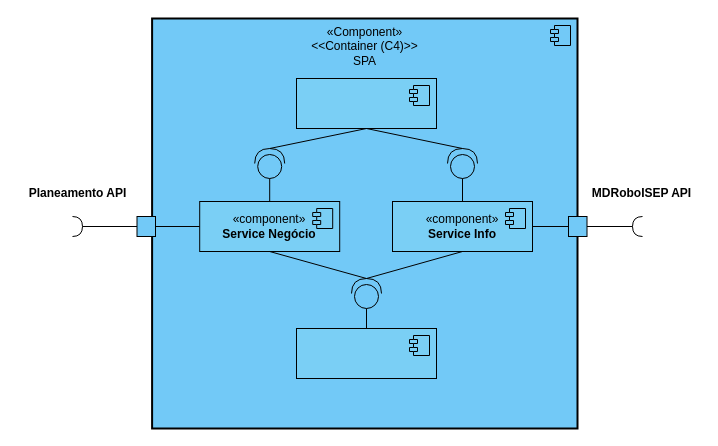
Some shapes in this 718 by 446 pixel diagram are drawn without their labels. Each missing label, with the box of its shape:
«component» Component: (296, 78, 436, 128)
«component» Data Model: (296, 328, 436, 378)
